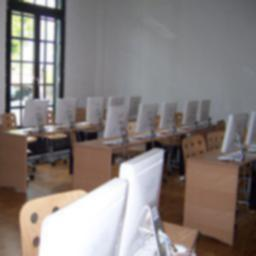Puerta: (6, 15, 59, 124)
